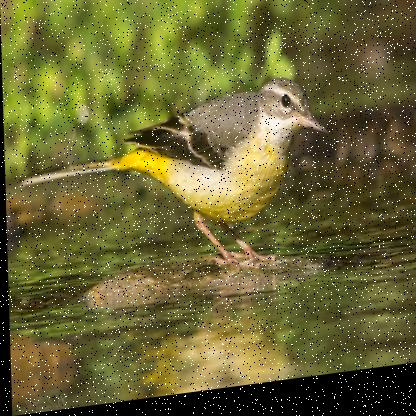Burung: (12, 77, 331, 298)
